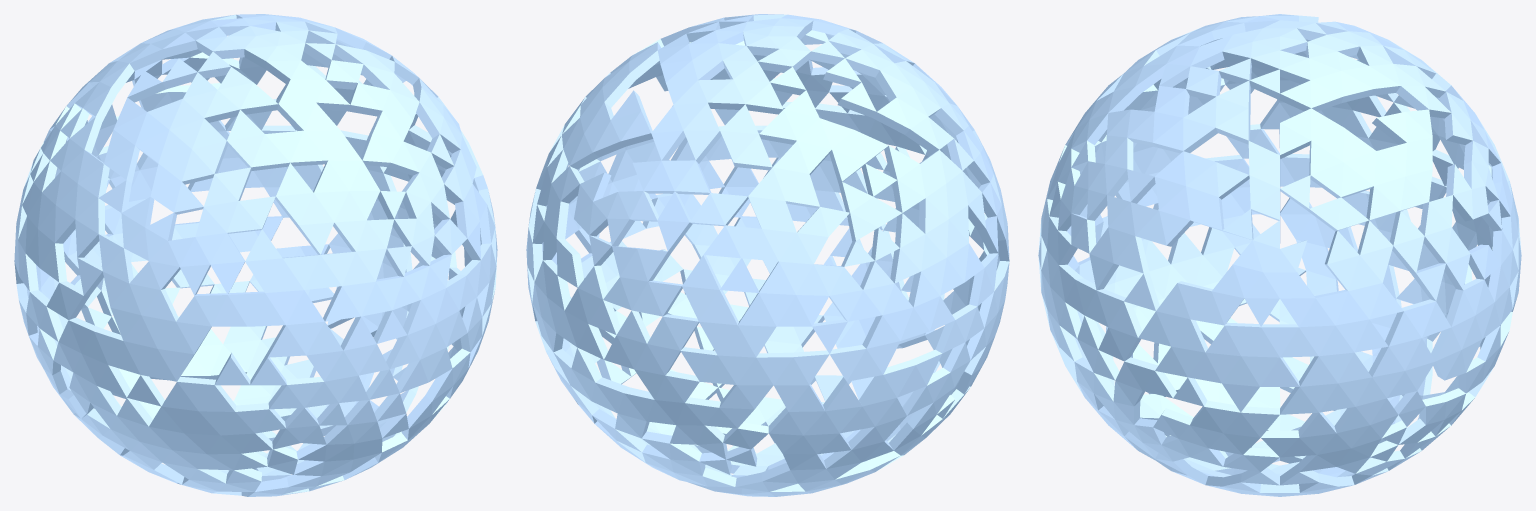
Rendered from planet-dyson.glb.
The picture shows the model from 3 angles, left to right: view 1: azimuth 30°, elevation 25°; view 2: azimuth 150°, elevation 25°; view 3: azimuth 270°, elevation 25°; orthographic projection.
Visible parts, largest first — view 1: Planet_Dyson; view 2: Planet_Dyson; view 3: Planet_Dyson.
Boxes of the visible parts, x1,y1,x2,y2 form: Planet_Dyson: (14,14,497,496); Planet_Dyson: (526,14,1009,496); Planet_Dyson: (1038,14,1521,496).
Bounding box in the file's own units: 2 × 2 × 2.
